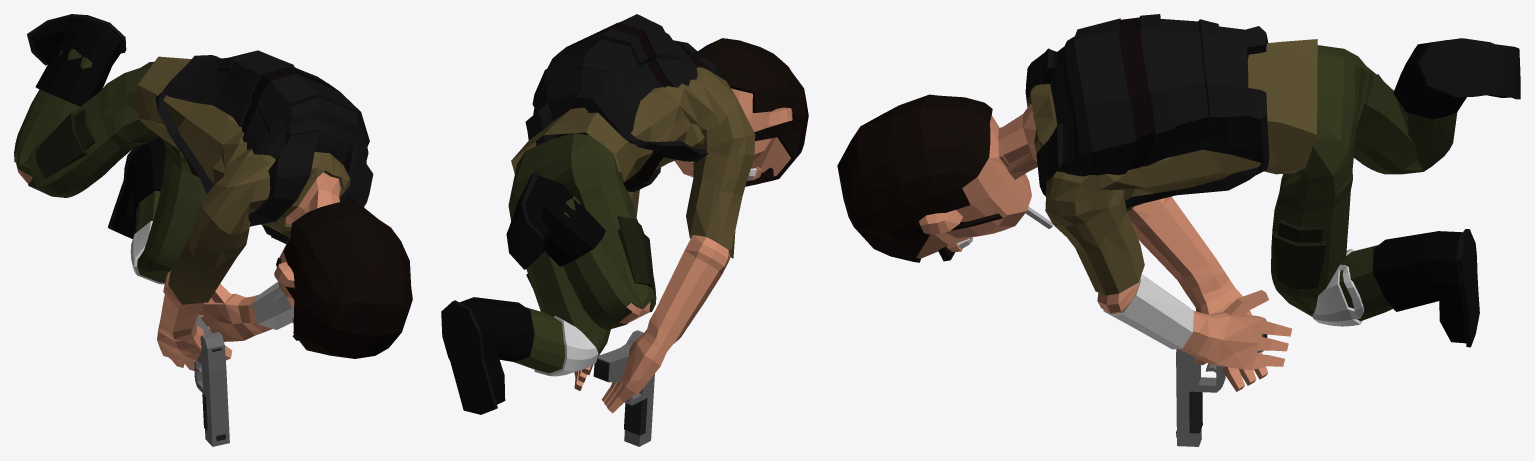
Rendered from frame_0061.obj.
The picture shows the model from 3 angles, left to right: view 1: azimuth 30°, elevation 25°; view 2: azimuth 150°, elevation 25°; view 3: azimuth 270°, elevation 25°; orthographic projection. The views are drawn at different scales.
Visible parts, largest first — view 1: Body, Gun; view 2: Body, Gun; view 3: Body, Gun.
Boxes of the visible parts, <box> form: Body: <box>14,14,412,370</box>; Gun: <box>194,315,229,446</box>; Body: <box>441,14,808,414</box>; Gun: <box>593,330,654,446</box>; Body: <box>837,14,1520,391</box>; Gun: <box>1176,320,1267,446</box>.
Bounding box in the file's own units: 1.42 × 2.41 × 3.38.
